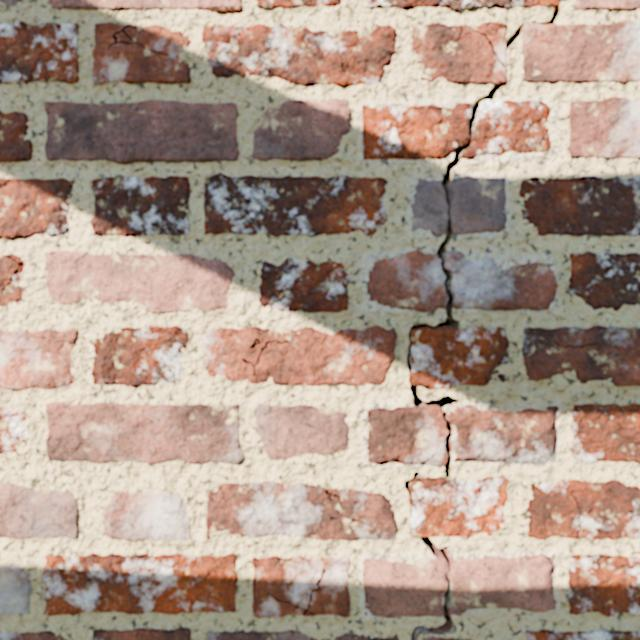broken_brick: (363, 554, 555, 618), (445, 251, 557, 310), (449, 404, 558, 463), (362, 102, 472, 159), (462, 99, 551, 158), (367, 250, 447, 312), (367, 406, 447, 465), (449, 176, 506, 234), (412, 178, 448, 236)
crack: (368, 0, 639, 567), (44, 100, 238, 164), (45, 402, 243, 464), (42, 553, 237, 615), (202, 24, 396, 86), (45, 250, 234, 312), (204, 173, 387, 236), (204, 325, 396, 385), (206, 481, 396, 540), (519, 176, 639, 236), (522, 326, 639, 386), (526, 479, 639, 540), (92, 22, 190, 85), (252, 98, 350, 161), (252, 556, 350, 618), (90, 176, 190, 236), (92, 326, 187, 387), (256, 405, 349, 460), (259, 258, 349, 312), (0, 21, 78, 83), (0, 329, 77, 389), (567, 553, 639, 616), (0, 177, 74, 238), (0, 482, 79, 539), (102, 491, 190, 541), (569, 96, 639, 158), (569, 251, 639, 310), (571, 403, 639, 463), (410, 573, 456, 639), (50, 0, 242, 13), (0, 111, 32, 162), (0, 563, 31, 615), (0, 406, 27, 454), (0, 254, 24, 306), (525, 629, 639, 639), (93, 628, 190, 639), (206, 630, 317, 639), (257, 0, 341, 9), (575, 0, 639, 10), (0, 631, 63, 639), (335, 633, 398, 639), (0, 0, 22, 5), (423, 636, 458, 639)
